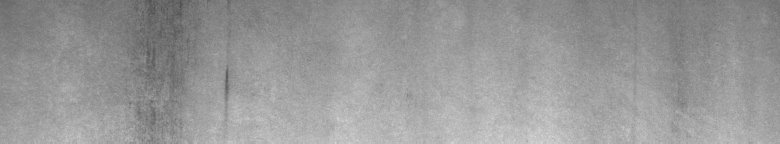ka: (133, 4, 229, 125)
